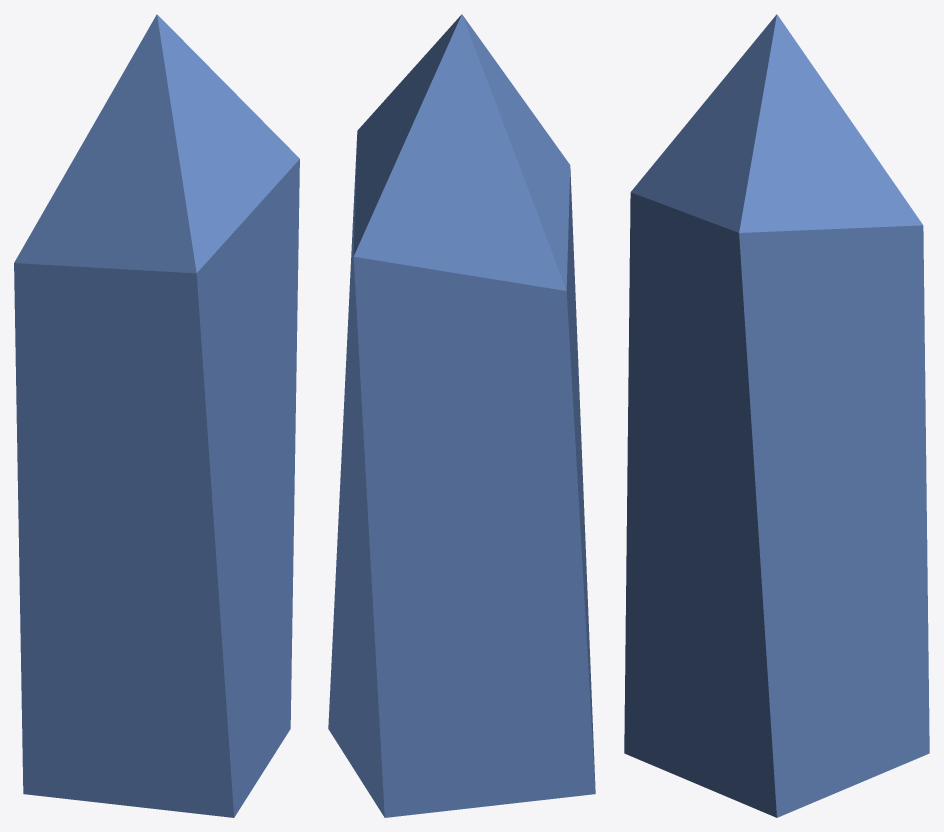
File: CrystalC.FBX
3 renders of one model, left to right at view 1: azimuth 30°, elevation 25°; view 2: azimuth 150°, elevation 25°; view 3: azimuth 270°, elevation 25°, orthographic.
Visible parts, largest first — view 1: outC; view 2: outC; view 3: outC.
Boxes of the visible parts, box(x1,y1,x2,y2) form: outC: box(14, 14, 299, 817); outC: box(328, 14, 595, 817); outC: box(624, 14, 929, 817).
Size of the model in its own units: 33.72 by 90.07 by 33.72.
